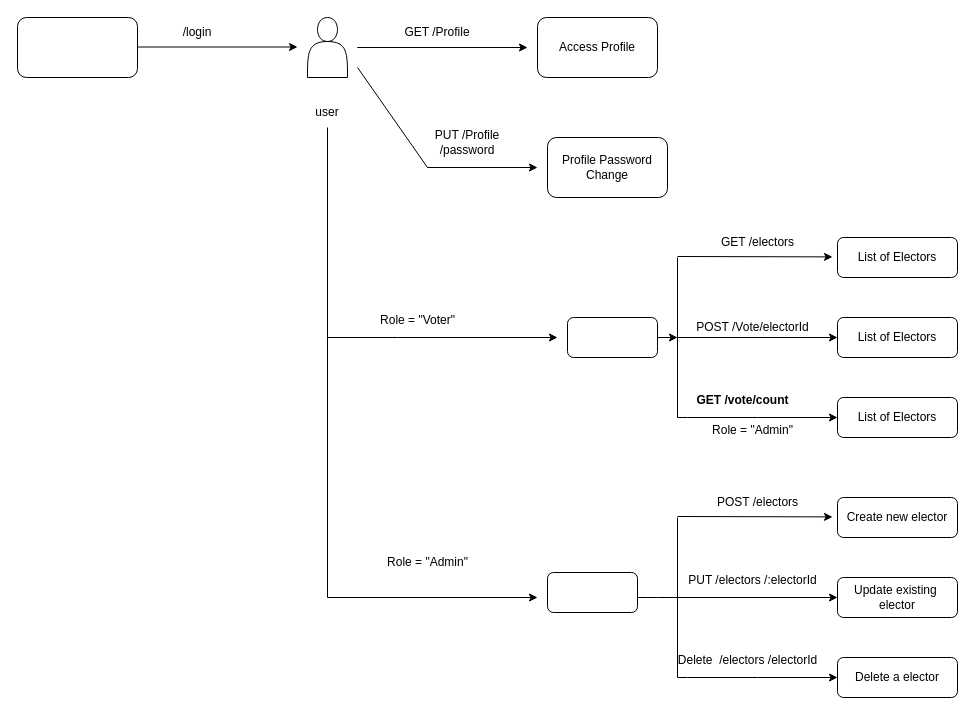
Some shapes in this 975 by 715 pixel diagram are drawn without their labels. The box of each missing label's shape, as (x1, y1, x2, y2) in pixels:
Elector Manager: (546, 572, 638, 612)
Login User: (16, 16, 138, 78)
Vote: (566, 316, 658, 358)
